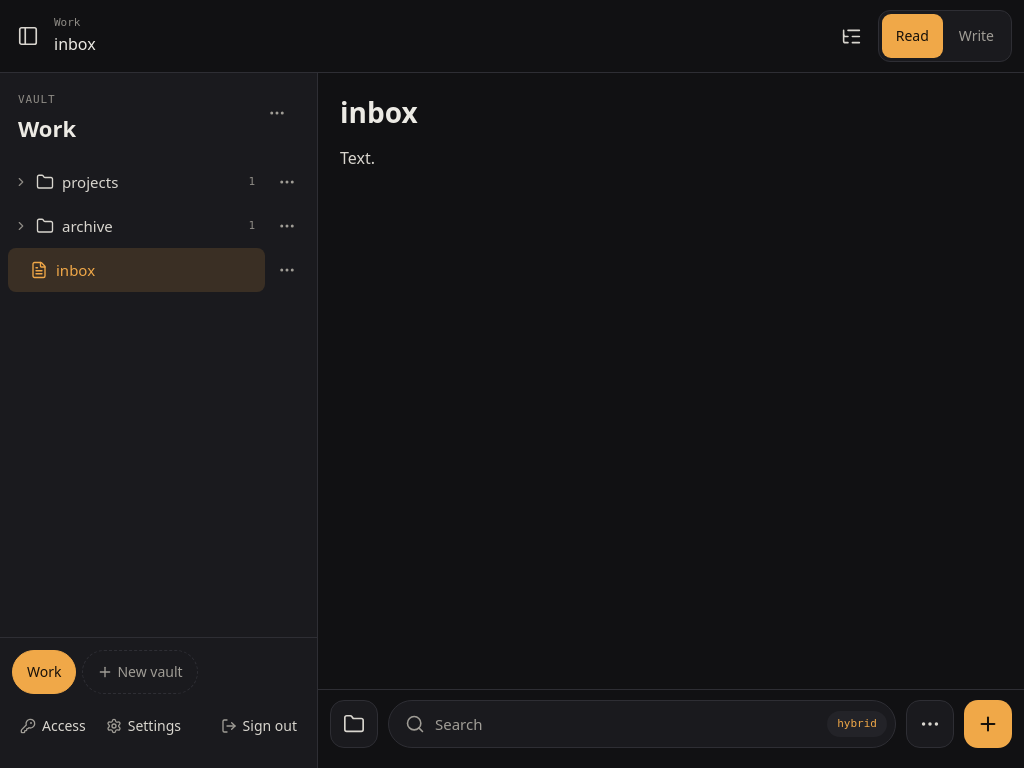
Rename or move › refuses a name that is taken by a folder, and shows the server's refusal
Click the button named "Note actions" at (930, 724), box [906,700,954,748]
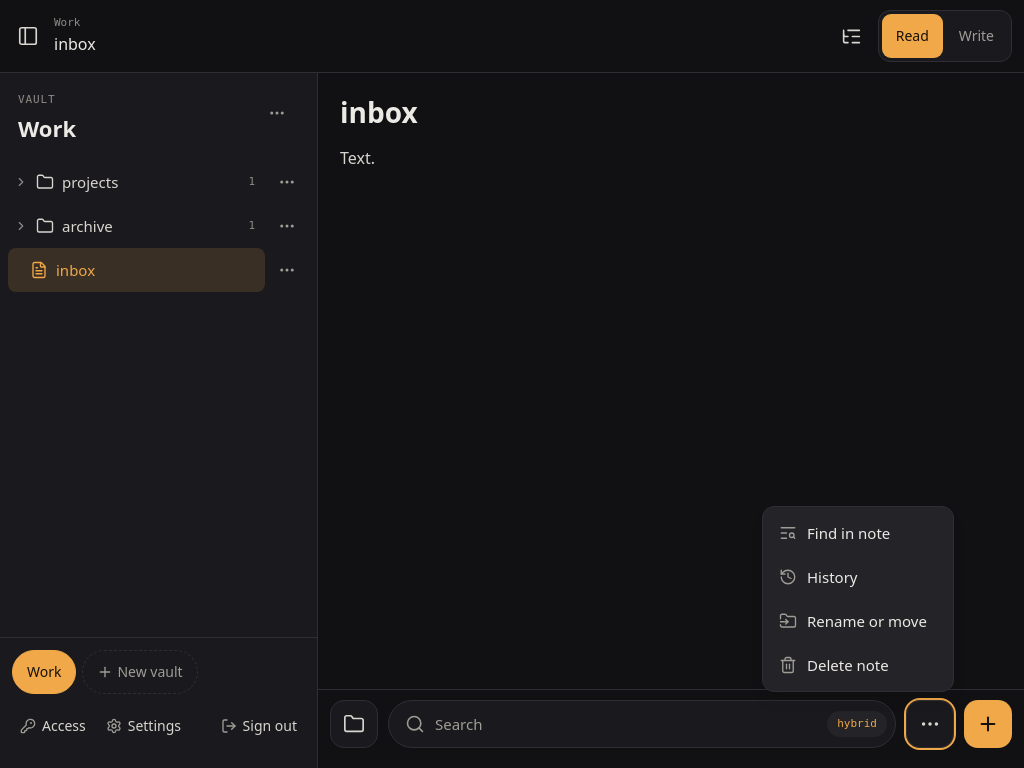
Click the menu item "Rename or move" at (858, 621), box [767,599,949,643]
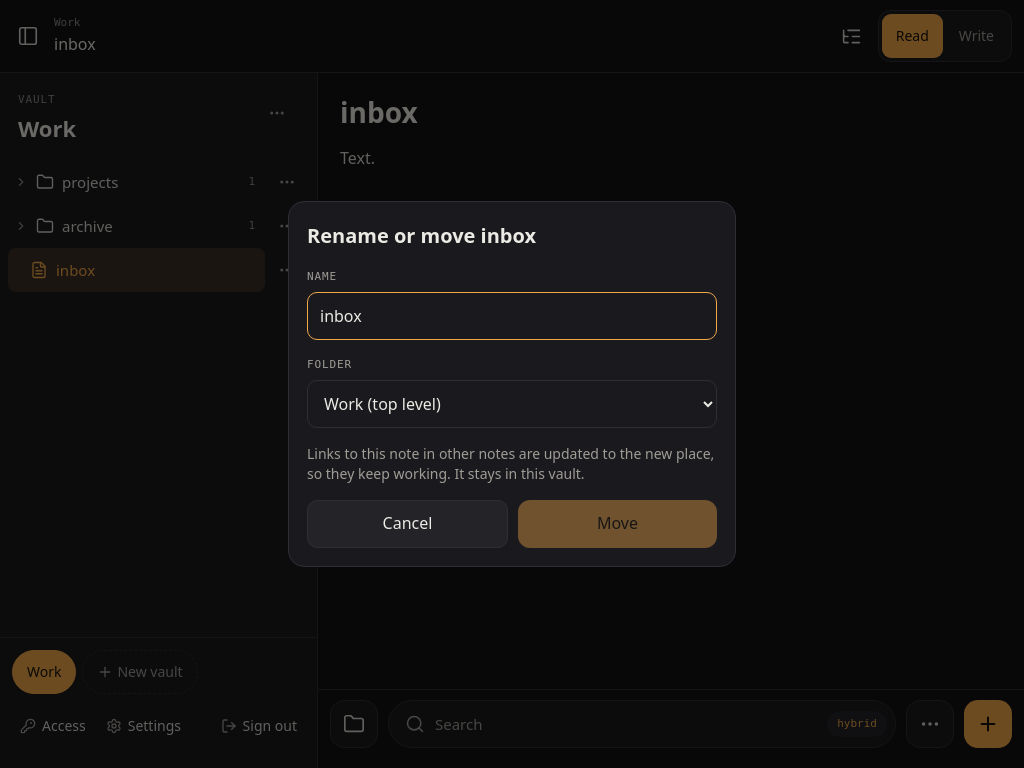
Replace the text in the field labelled "Name" with "archive.md" at (512, 316), box [307,292,717,340]
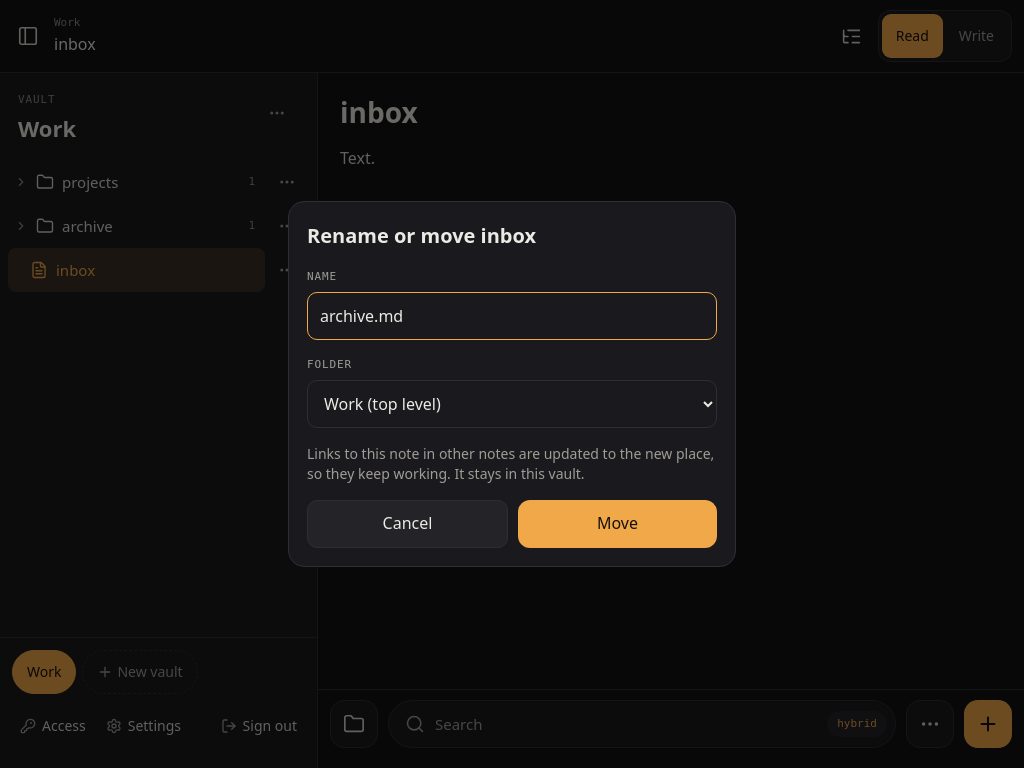
A folder is "archive", the note would be "archive.md": not the same, so this one goes to the server.
Click the button "Move" at (618, 524), box [518,500,717,548]
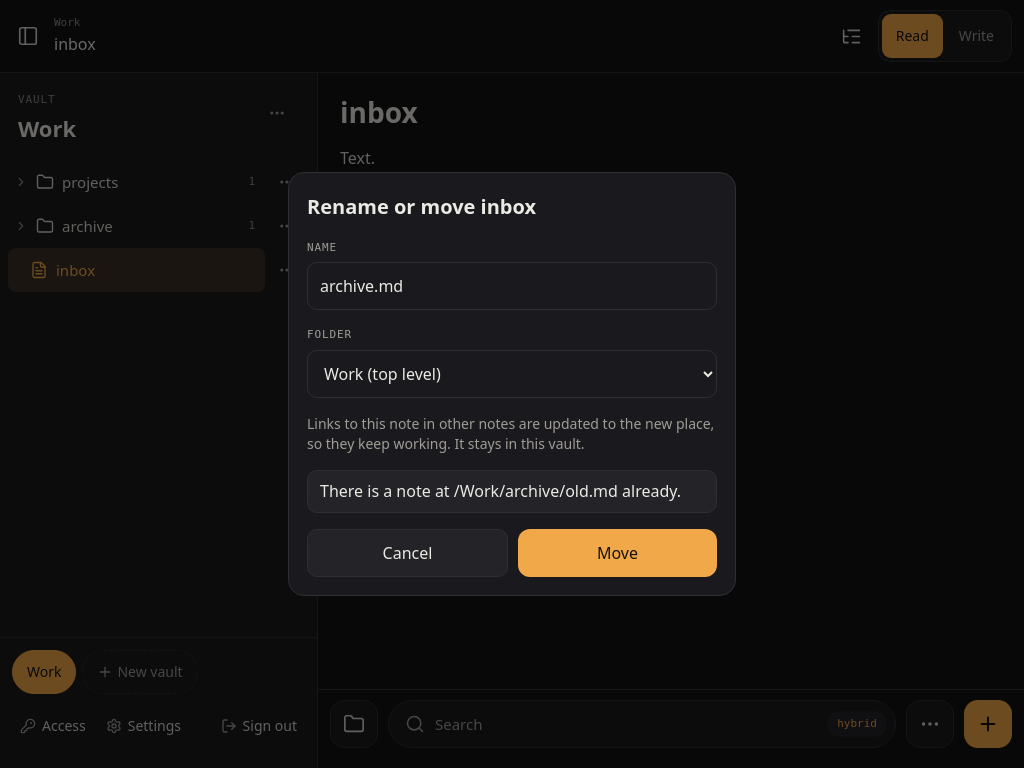
Result: the message reads "There is a note at /Work/archive/old.md already." at [320,480,681,502]
Replace the text in the field labelled "Name" with "a/b" at (512, 286), box [307,262,717,310]
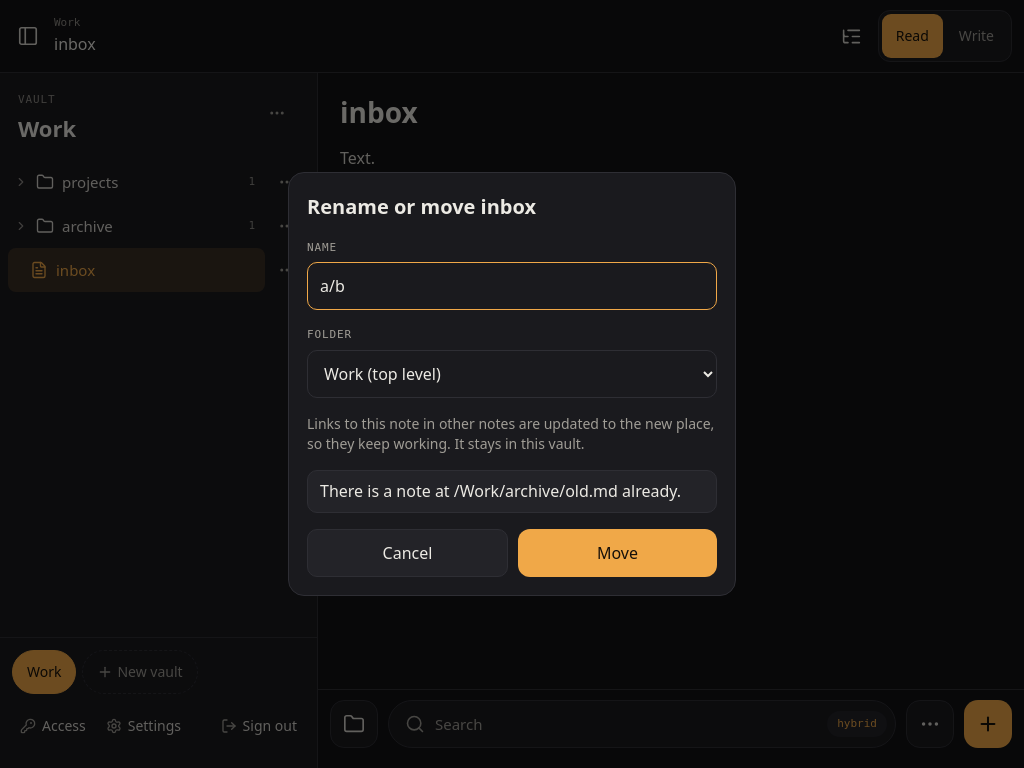
Click the button "Move" at (618, 553), box [518,529,717,577]
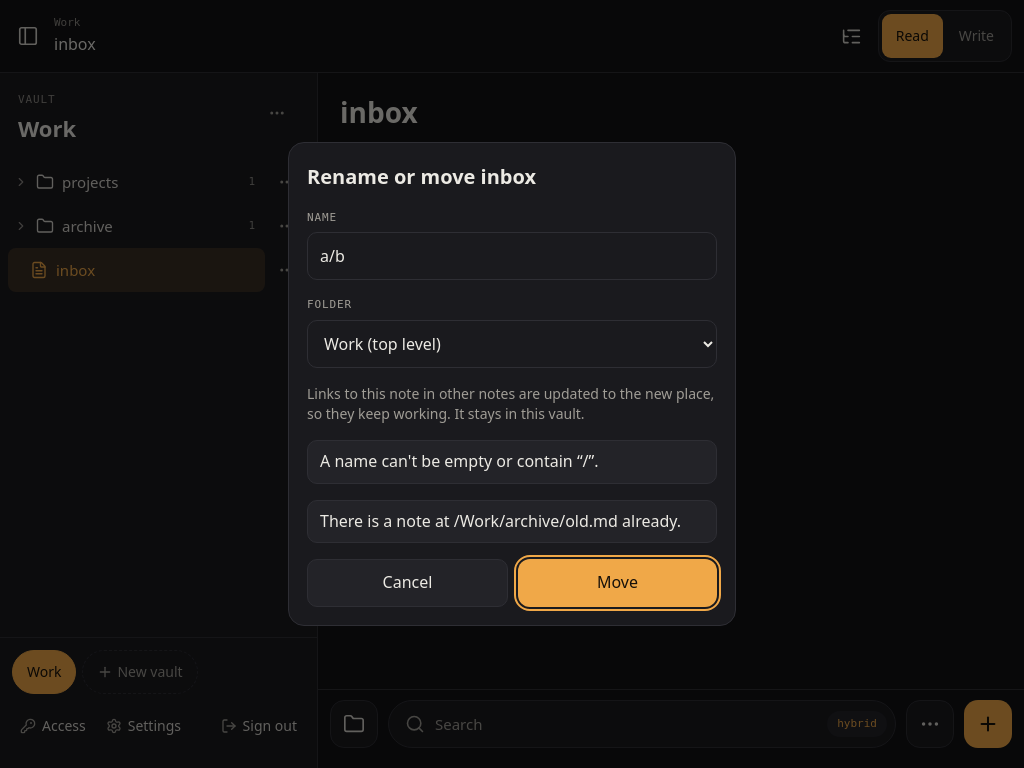
Result: the message "A name can't be empty or contain “/”." is shown at [307,440,717,484]
